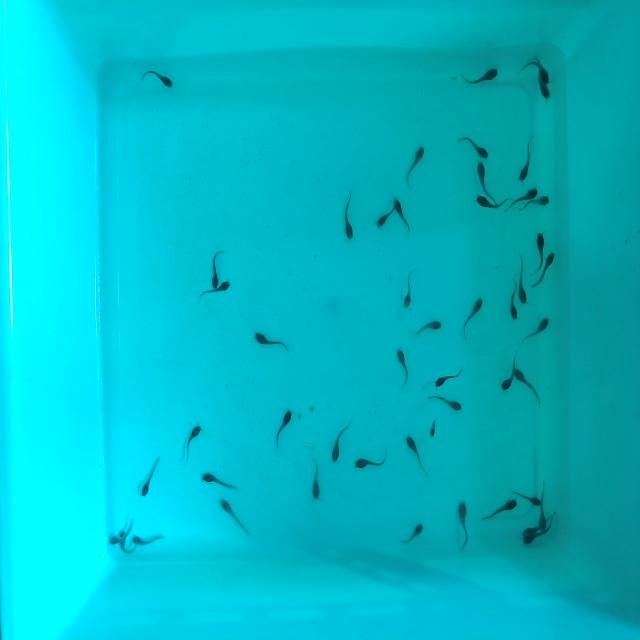lele: (219, 498, 253, 540), (460, 296, 487, 338), (406, 435, 433, 477), (513, 366, 542, 405), (137, 453, 162, 498), (329, 418, 354, 463), (480, 498, 521, 525), (402, 143, 428, 185), (521, 314, 554, 346), (459, 134, 494, 164), (531, 250, 557, 290), (178, 422, 204, 461), (501, 349, 524, 392), (272, 408, 296, 449), (519, 134, 539, 183), (460, 66, 500, 90), (251, 330, 288, 355), (374, 195, 402, 228), (142, 66, 177, 92), (200, 471, 238, 494), (432, 364, 466, 389), (429, 393, 465, 415), (521, 524, 555, 547), (392, 196, 412, 233), (398, 521, 426, 547), (517, 62, 549, 84), (199, 279, 232, 300), (344, 188, 357, 240), (510, 487, 542, 508), (473, 160, 491, 197), (412, 317, 444, 337), (394, 347, 410, 386), (456, 500, 469, 548), (518, 253, 530, 305), (400, 269, 415, 310), (208, 246, 223, 285), (310, 458, 323, 501), (473, 193, 504, 211), (505, 187, 539, 202), (507, 278, 518, 321), (523, 196, 552, 212), (538, 478, 547, 526), (517, 520, 542, 537), (536, 231, 547, 269), (356, 455, 388, 468), (132, 536, 167, 547), (534, 83, 551, 101), (120, 532, 132, 556), (108, 523, 120, 546), (428, 417, 437, 439)
